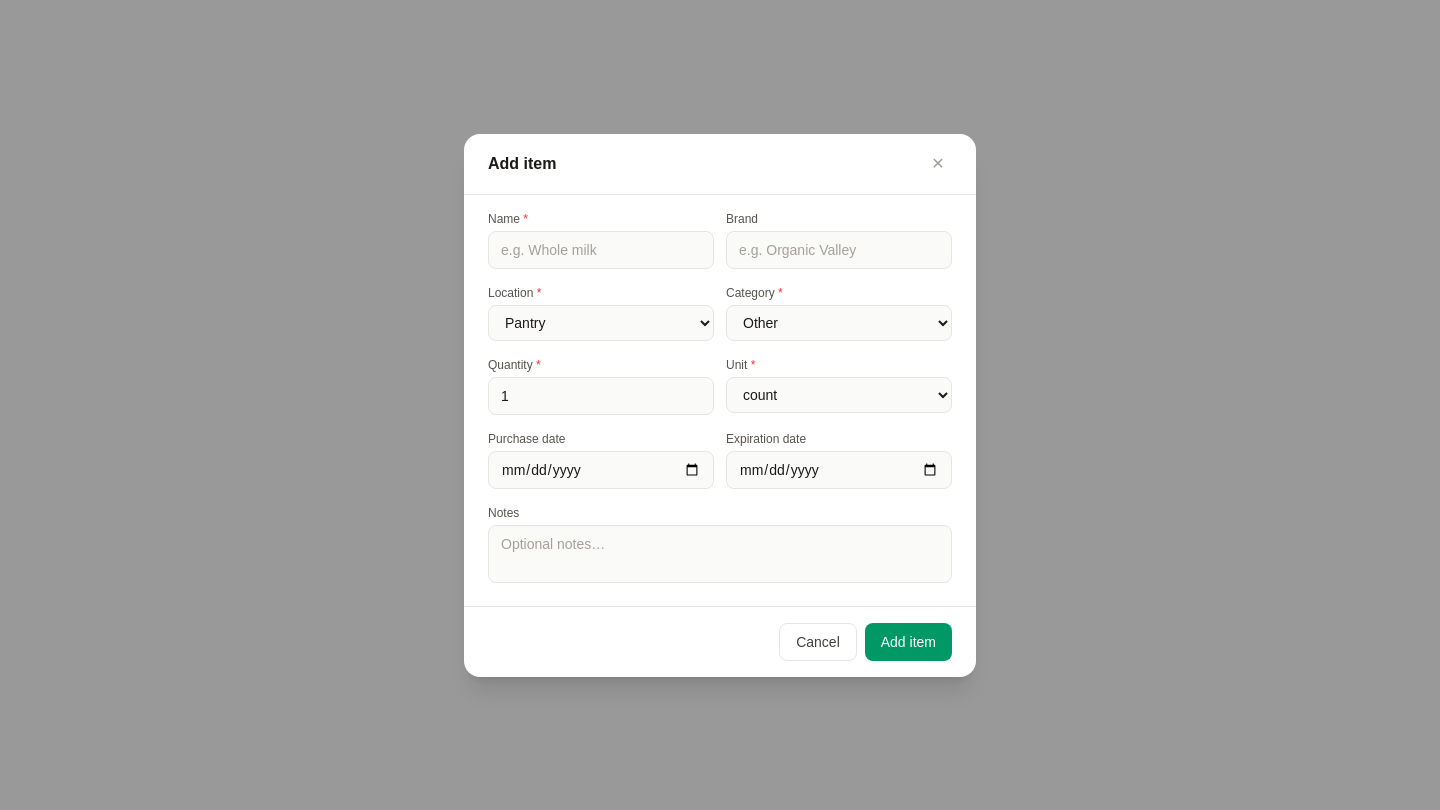
PantryForm › shows an error message when the API returns a failure
The image size is (1440, 810).
Click the button "Add item".
click(908, 642)  # box [865,622,952,660]
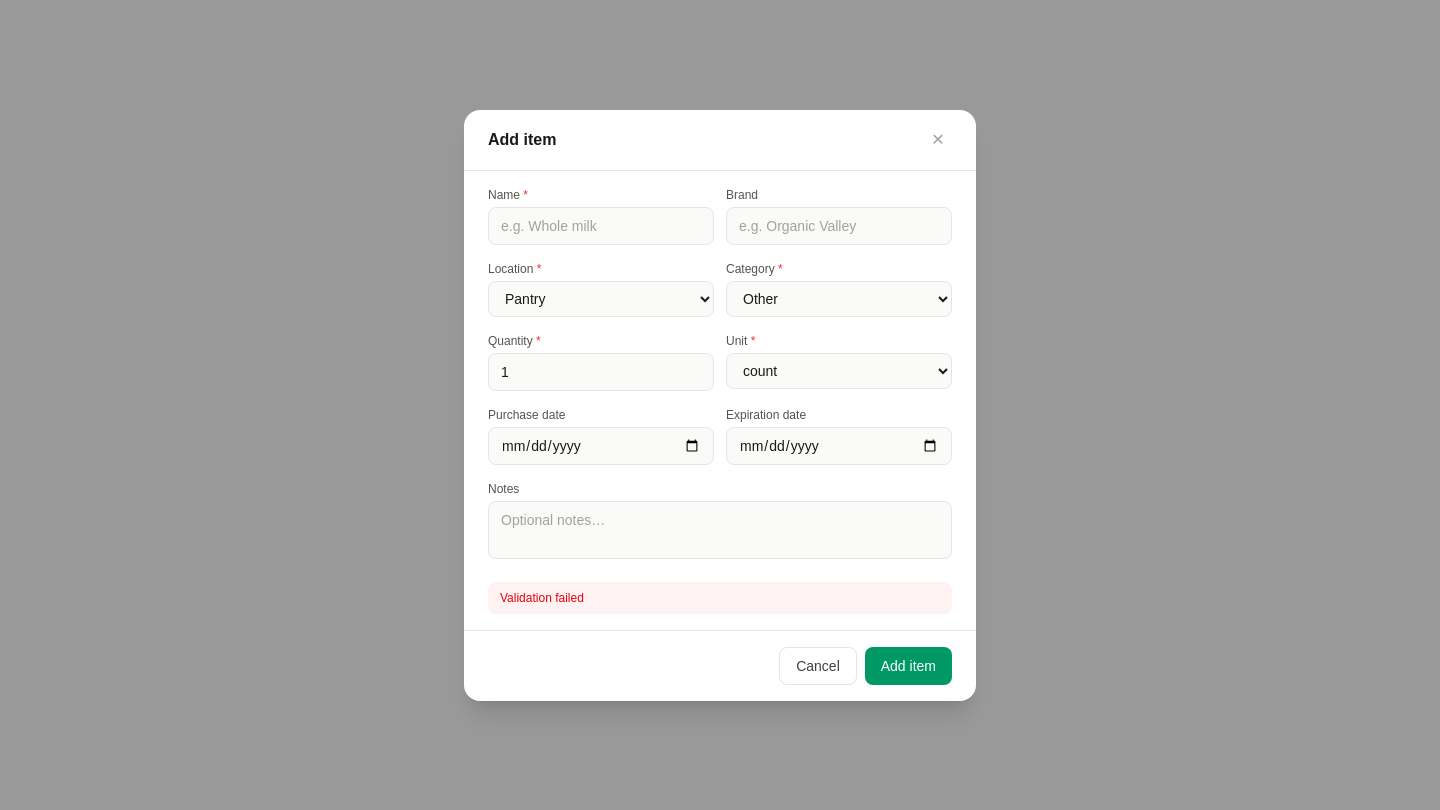
Expected: the text "Validation failed" is shown, [488,582,952,614]
